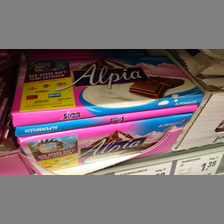chocolate: (13, 57, 203, 124), (20, 115, 196, 170)
